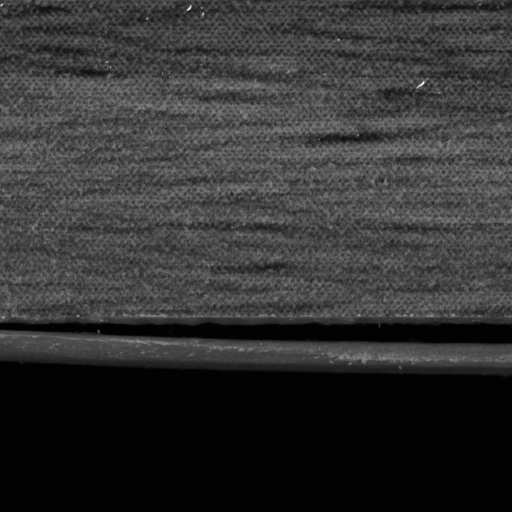kaijiao: (0, 311, 511, 378)
